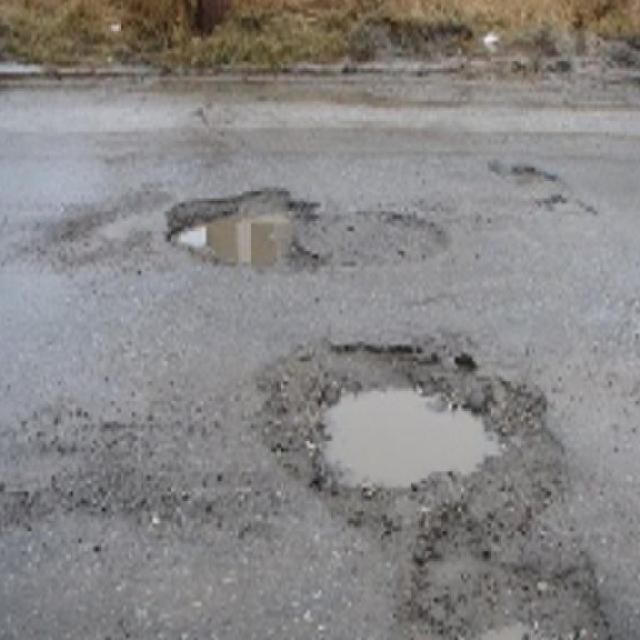Lubang: (265, 352, 541, 509), (171, 191, 317, 277)
